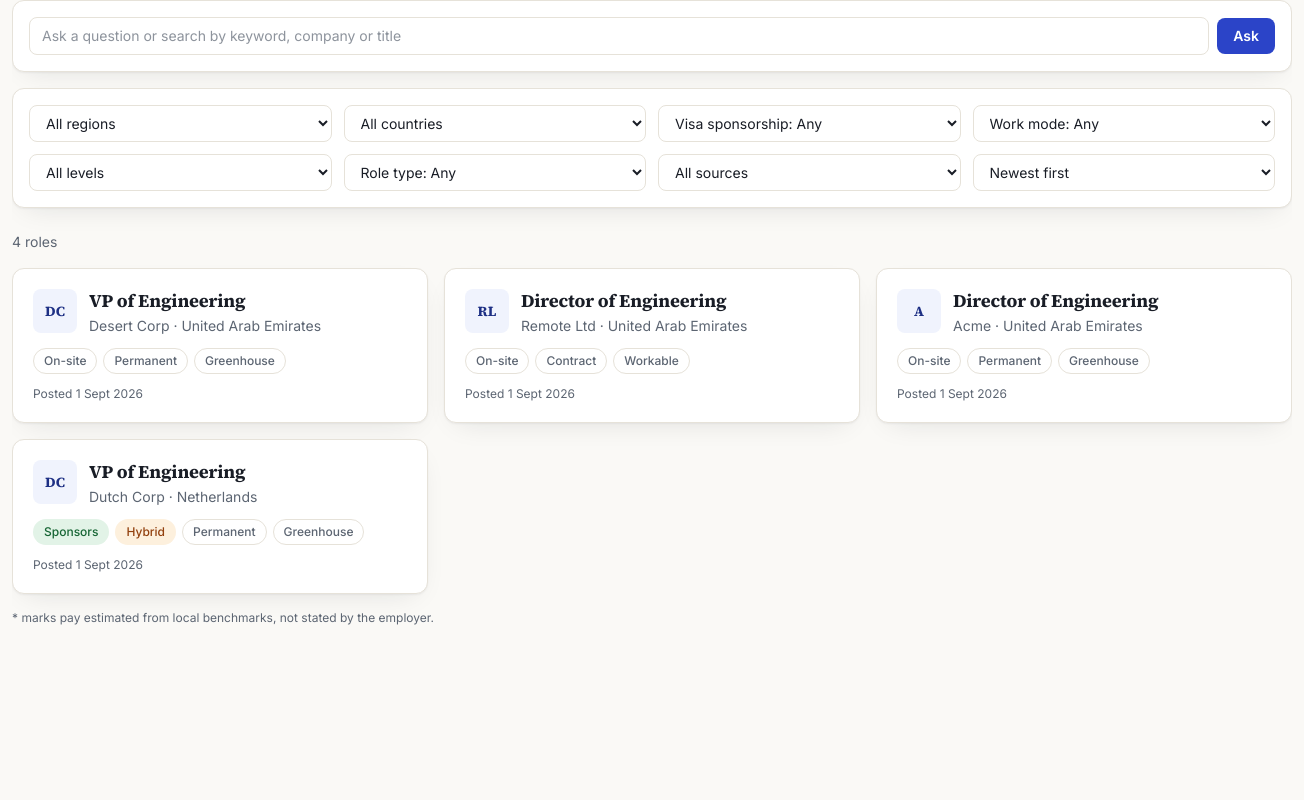
Test: JobsBrowser ask and saved searches › keeps the answer panel consistent through suggestion, save and re-apply
Type "Is it possible to get a VP Engineering job in Dubai with visa sponsorship?" into the field with placeholder "Ask a question or search by keyword, company or title" at (619, 36), box left=29, top=17, right=1209, bottom=55
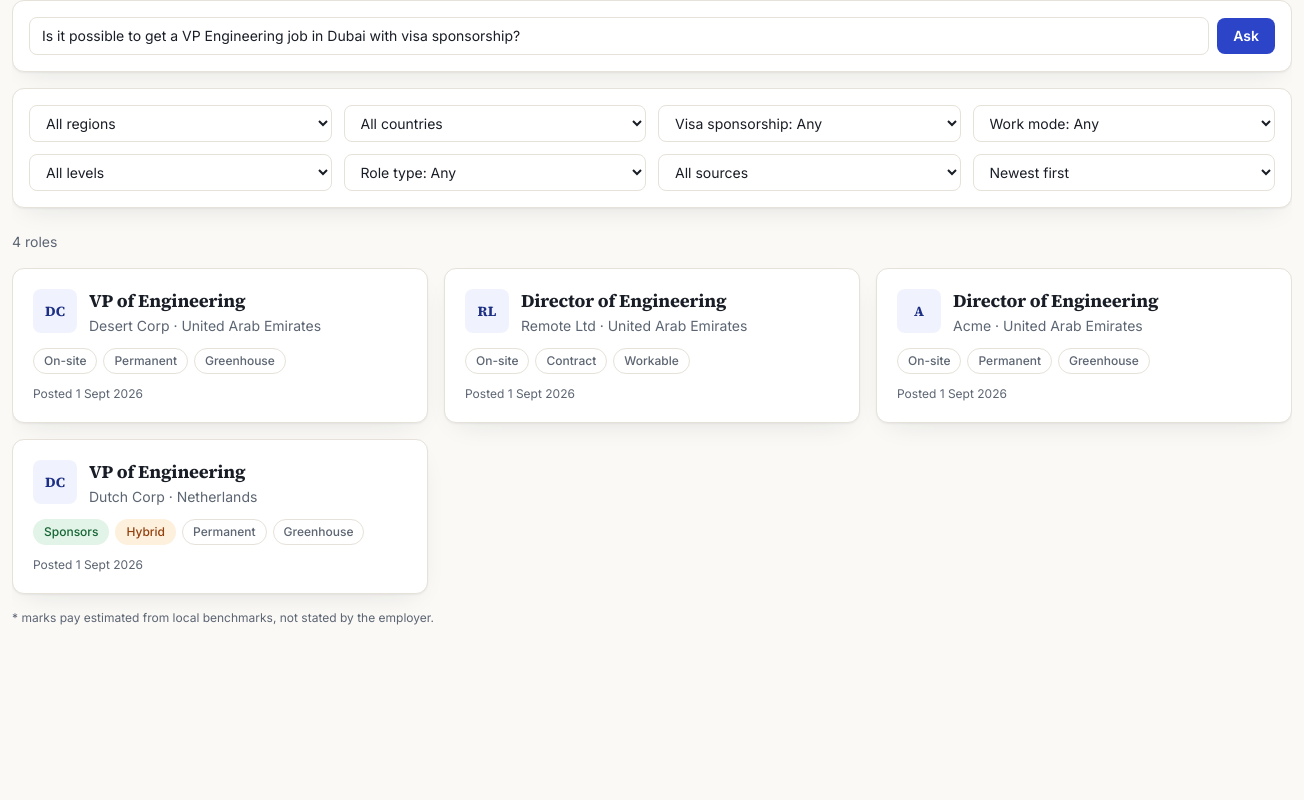
Submit the form, box left=12, top=0, right=1292, bottom=72
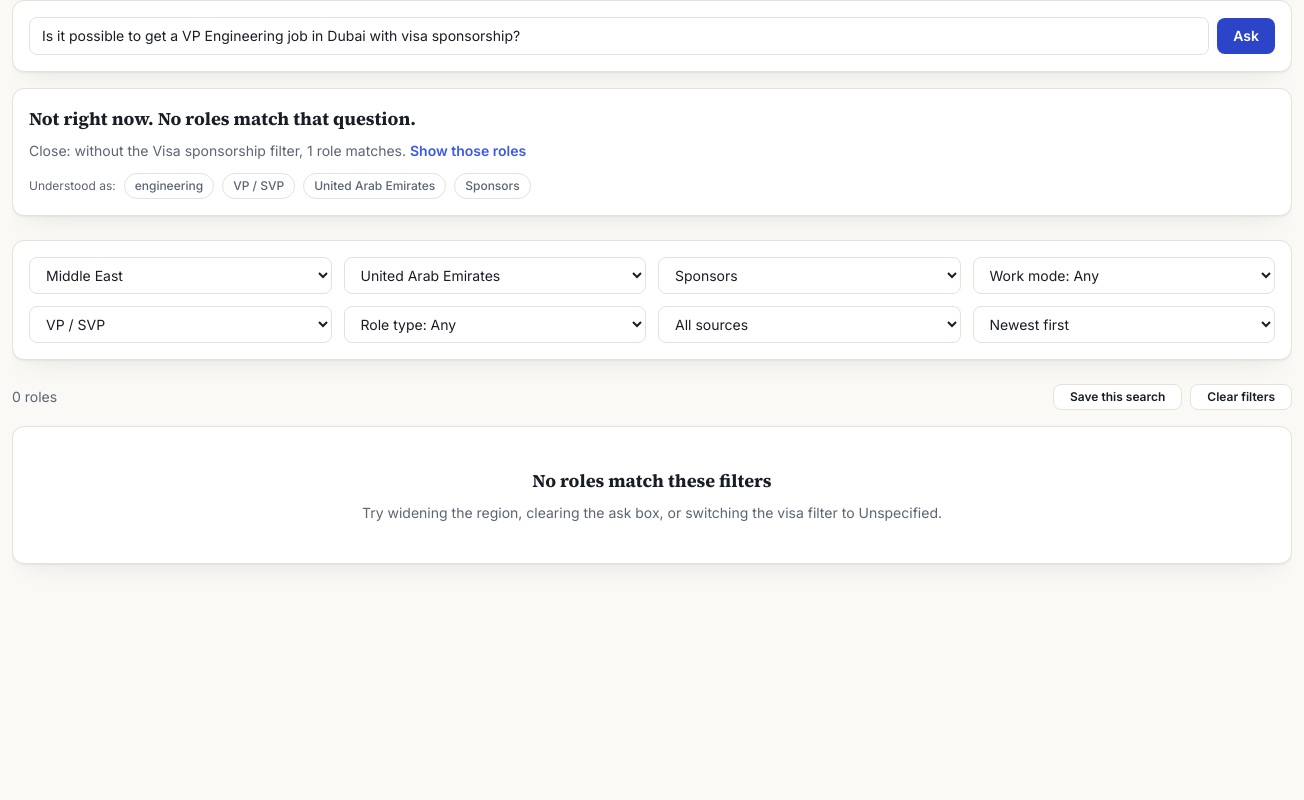
Now the text "Not right now. No roles match that question." is shown, box left=29, top=106, right=416, bottom=131
Click the button "Show those roles" at (468, 151), box left=410, top=141, right=526, bottom=161
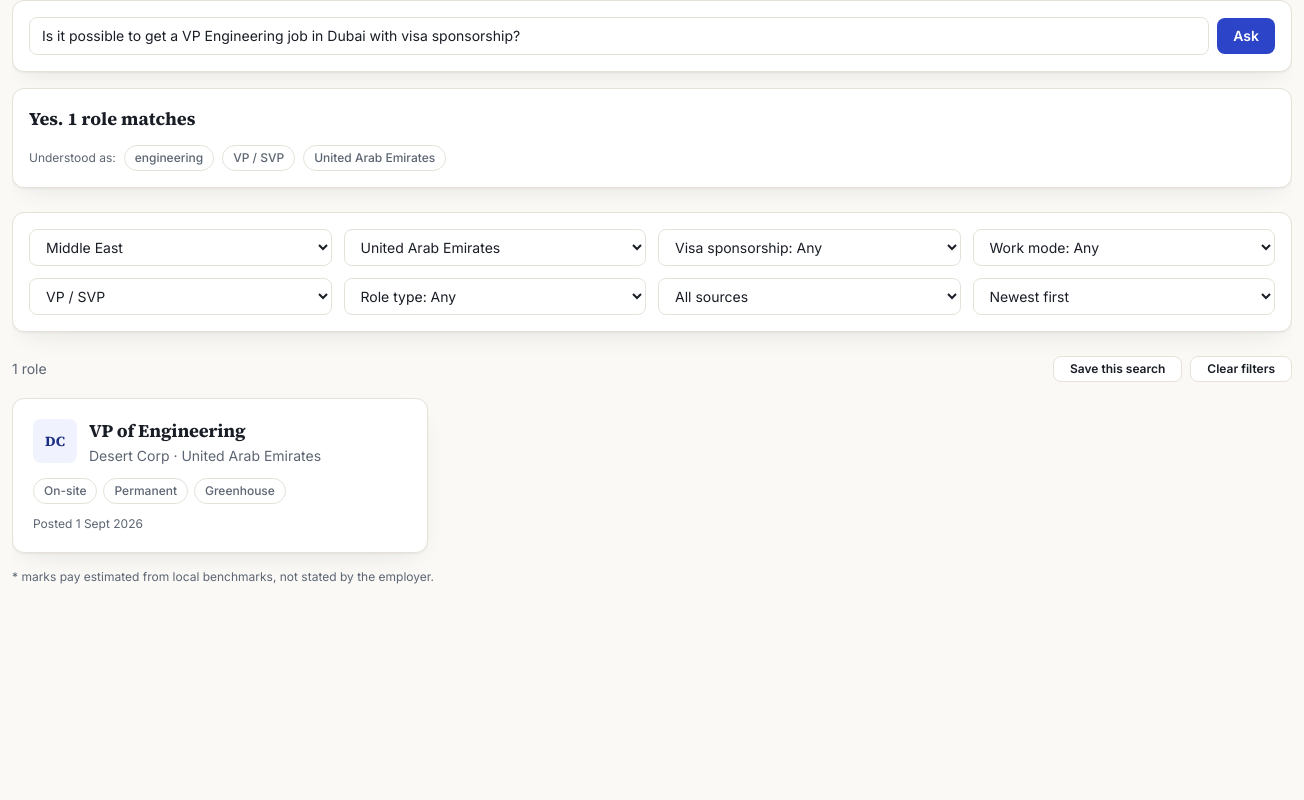
Now the text "Yes. 1 role matches" is shown, box left=29, top=106, right=195, bottom=131
Click the button "Save this search" at (1118, 369), box left=1053, top=356, right=1182, bottom=382
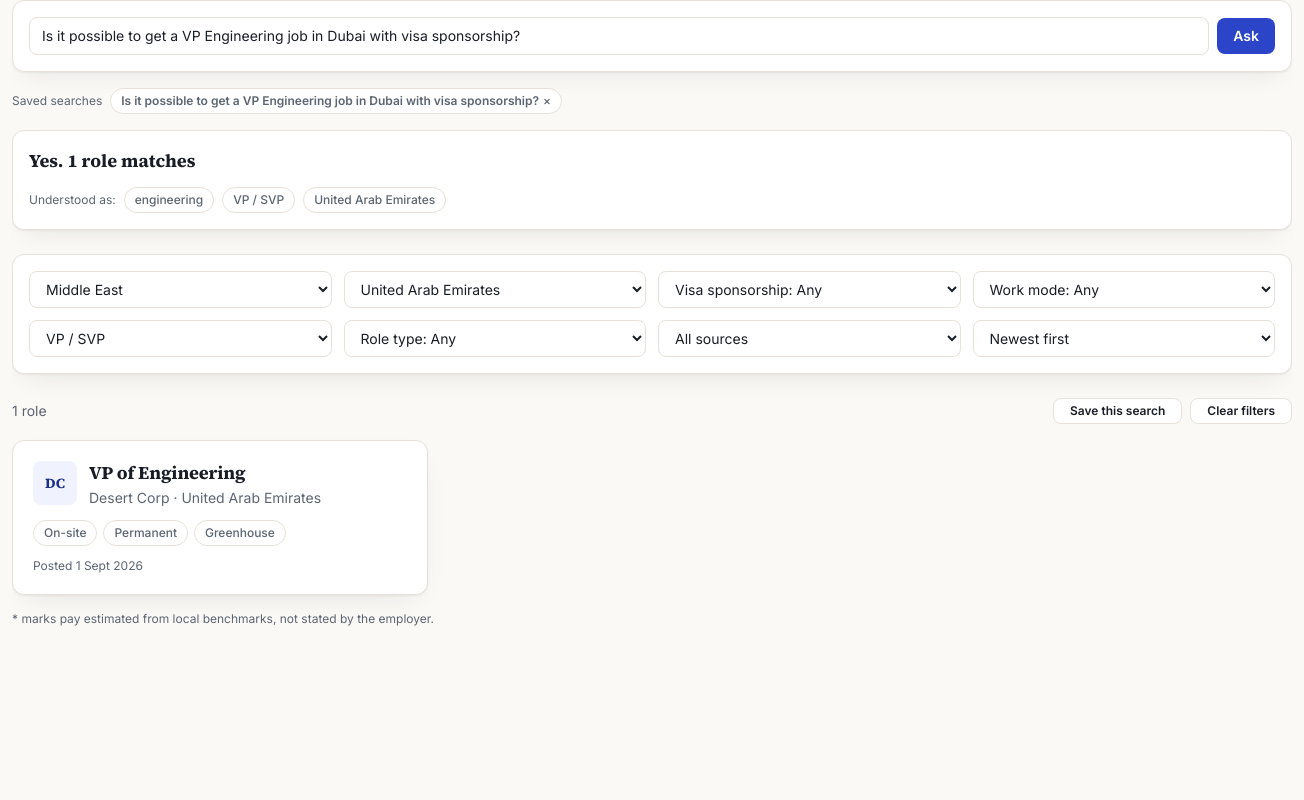
Click the button "Clear filters" at (1241, 411), box left=1190, top=398, right=1292, bottom=424
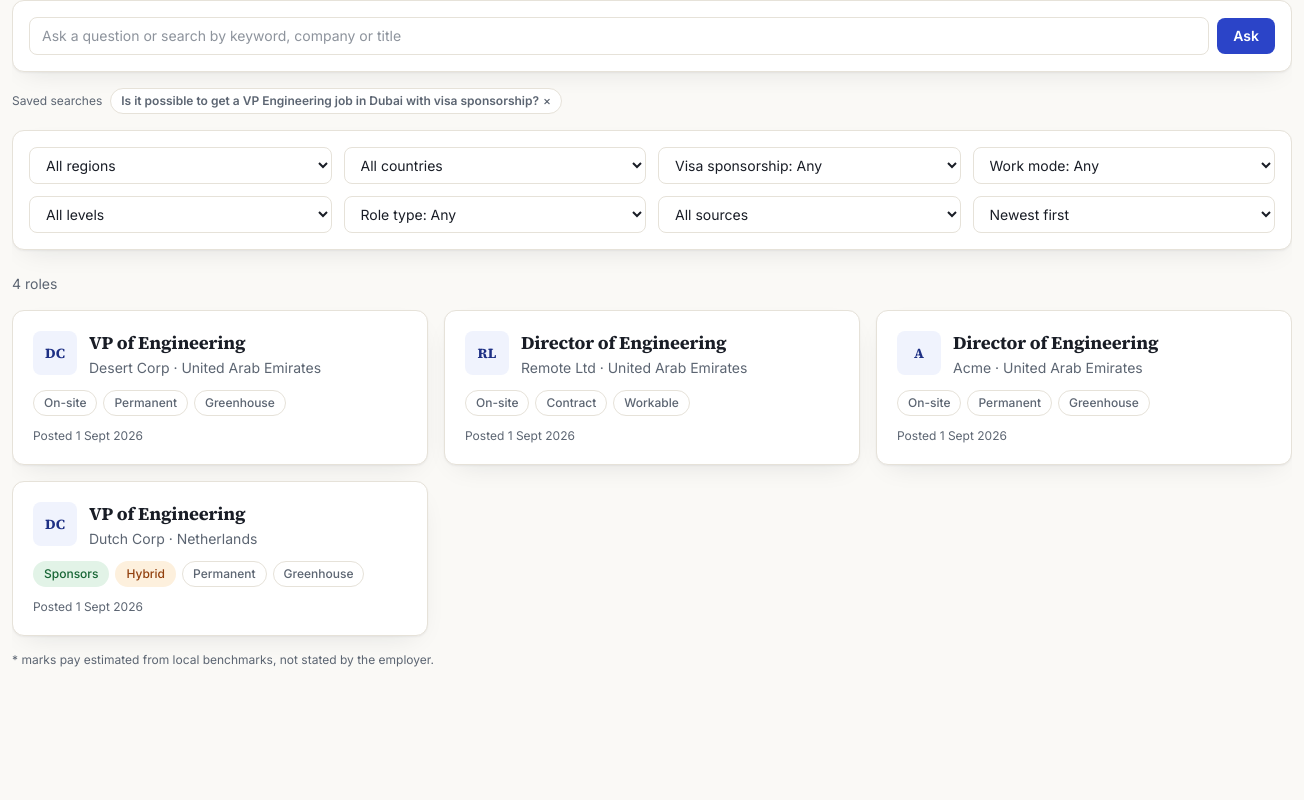
Now the text "Yes. 1 role matches" is gone
Click the button "Is it possible to get a VP Engineering job in Dubai with visa sponsorship?" at (330, 101), box left=121, top=93, right=539, bottom=109
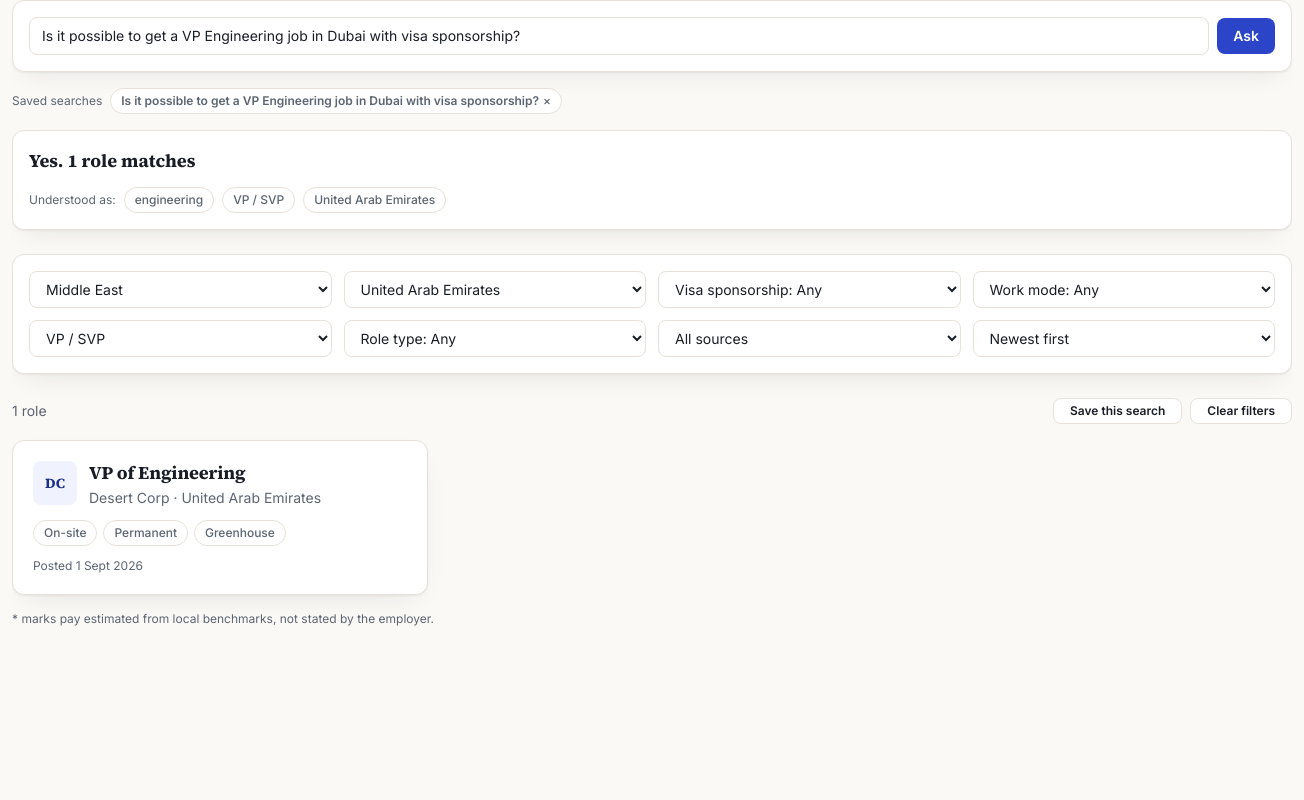
Now the text "Yes. 1 role matches" is shown, box left=29, top=148, right=195, bottom=173
Now the text "1 role" is shown, box left=12, top=401, right=47, bottom=421
